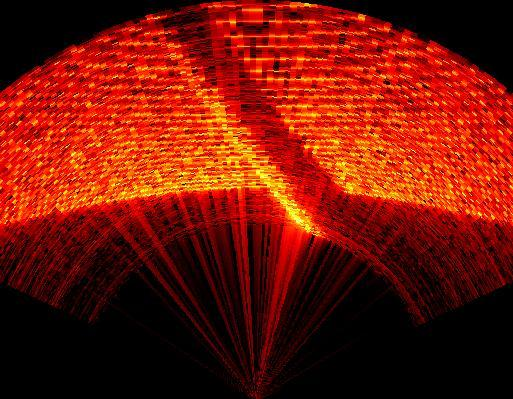pipe: (156, 6, 351, 229)
